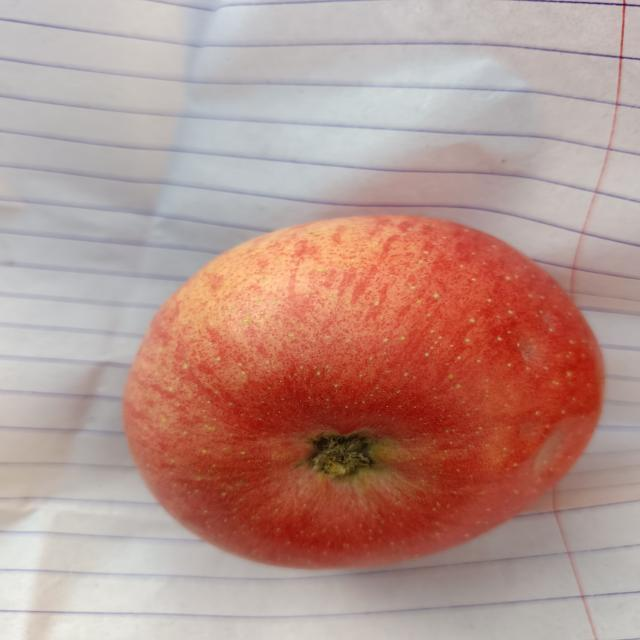Fresh Apple: (124, 210, 594, 597)
